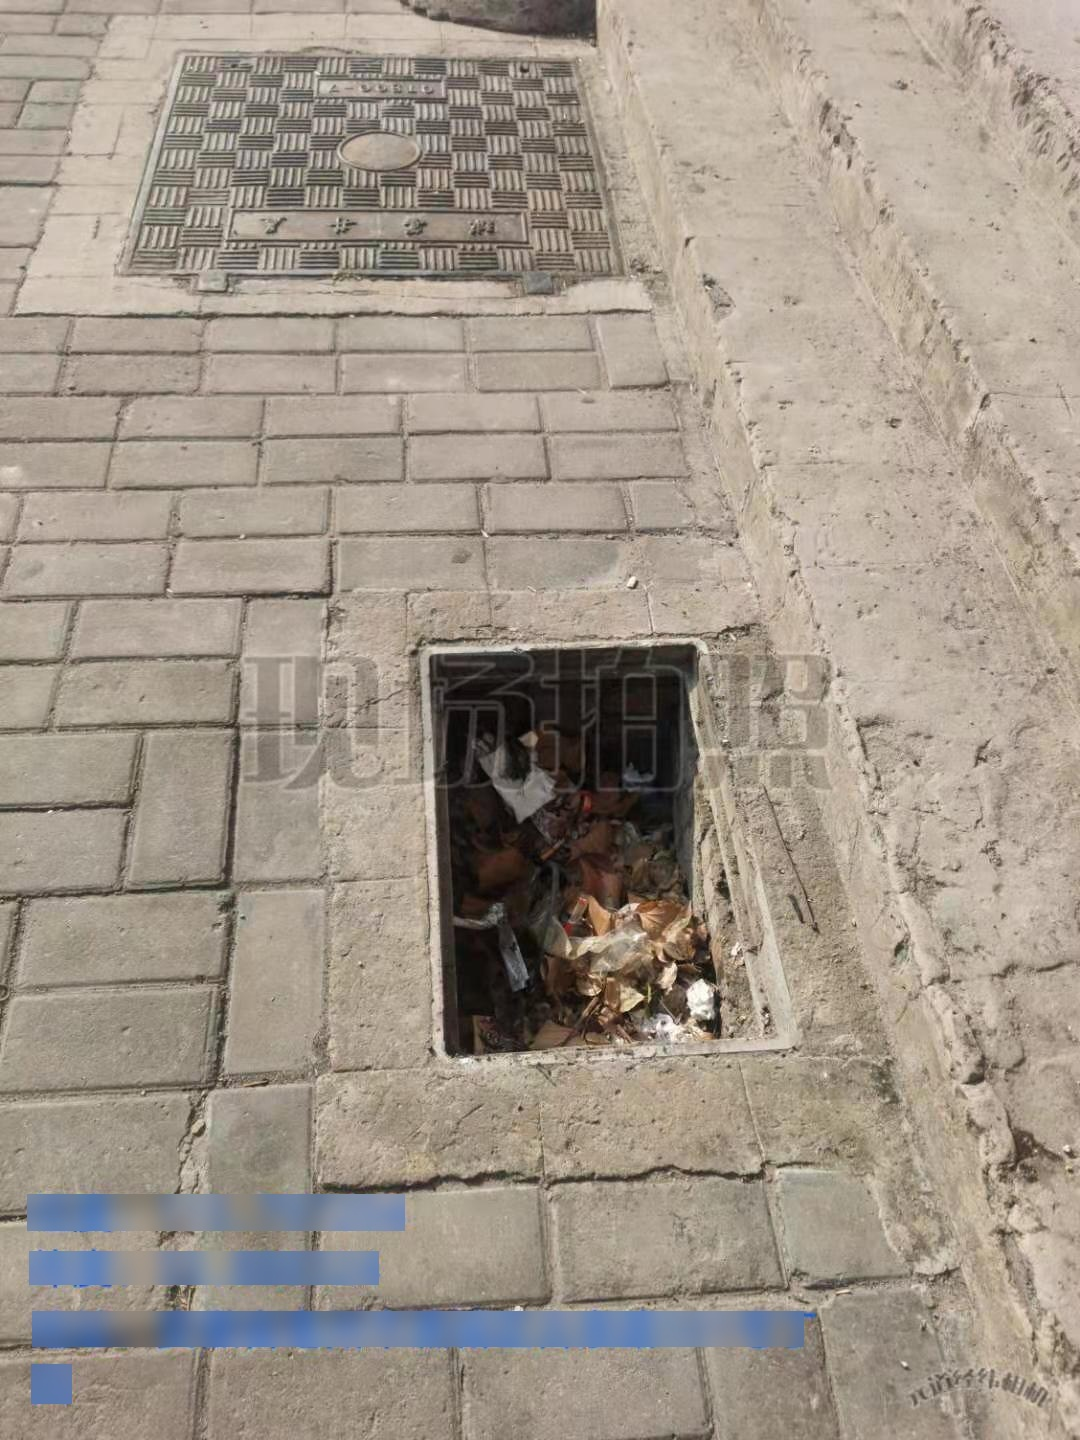good: (112, 46, 634, 300)
lose: (417, 628, 805, 1067)
